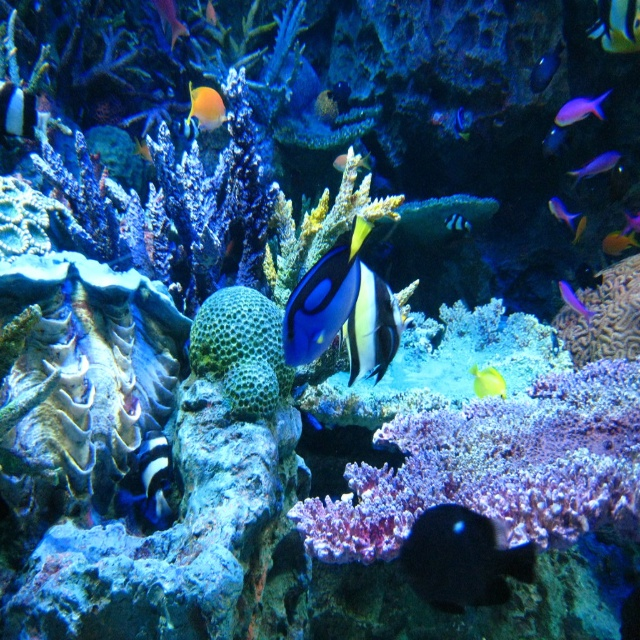Fish: (0, 0, 640, 617)
